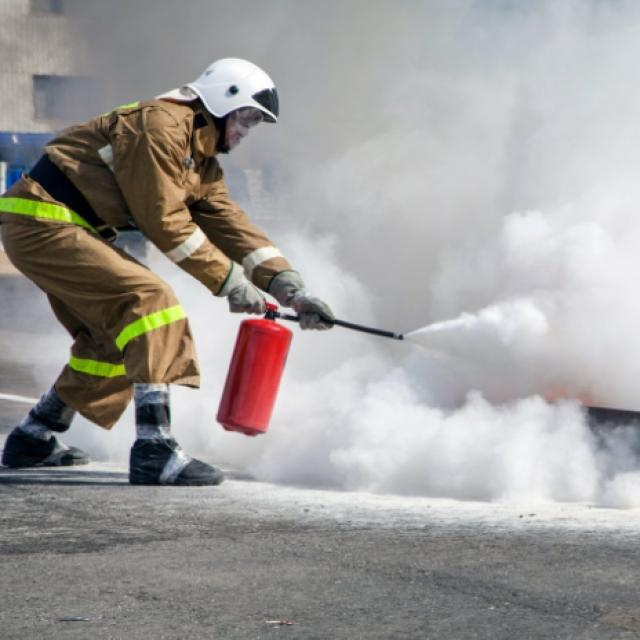fire extinguisher: (222, 306, 304, 456)
helmet: (175, 41, 288, 131)
